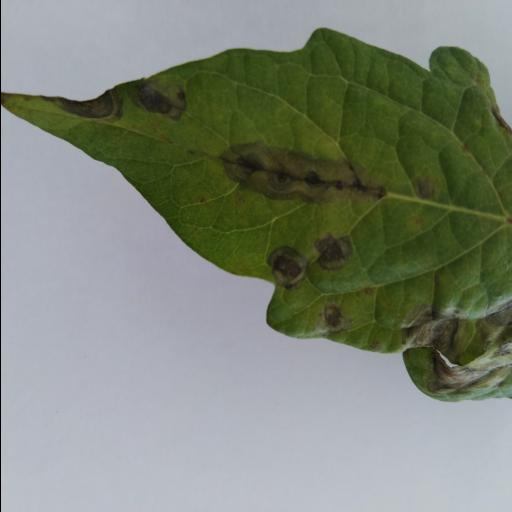disease_tomato: (0, 30, 512, 404)
